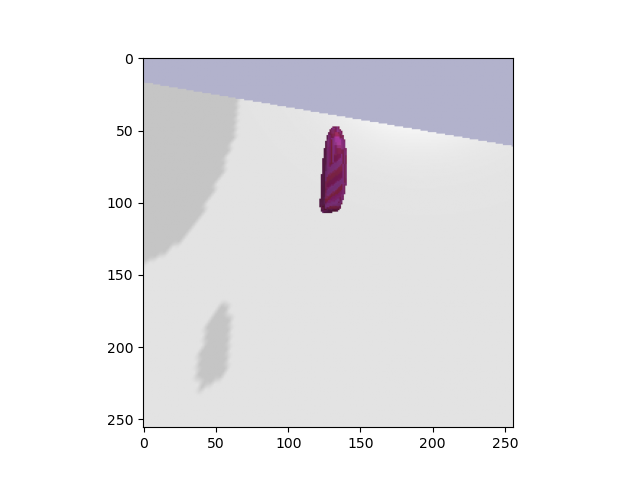v249b387_105: (311, 122, 366, 218)
